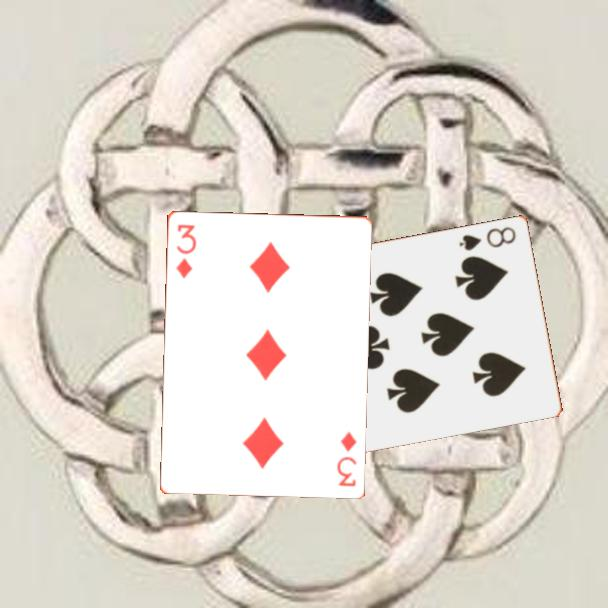d03: (172, 220, 198, 281), (333, 428, 359, 489)
s08: (456, 223, 519, 253)
